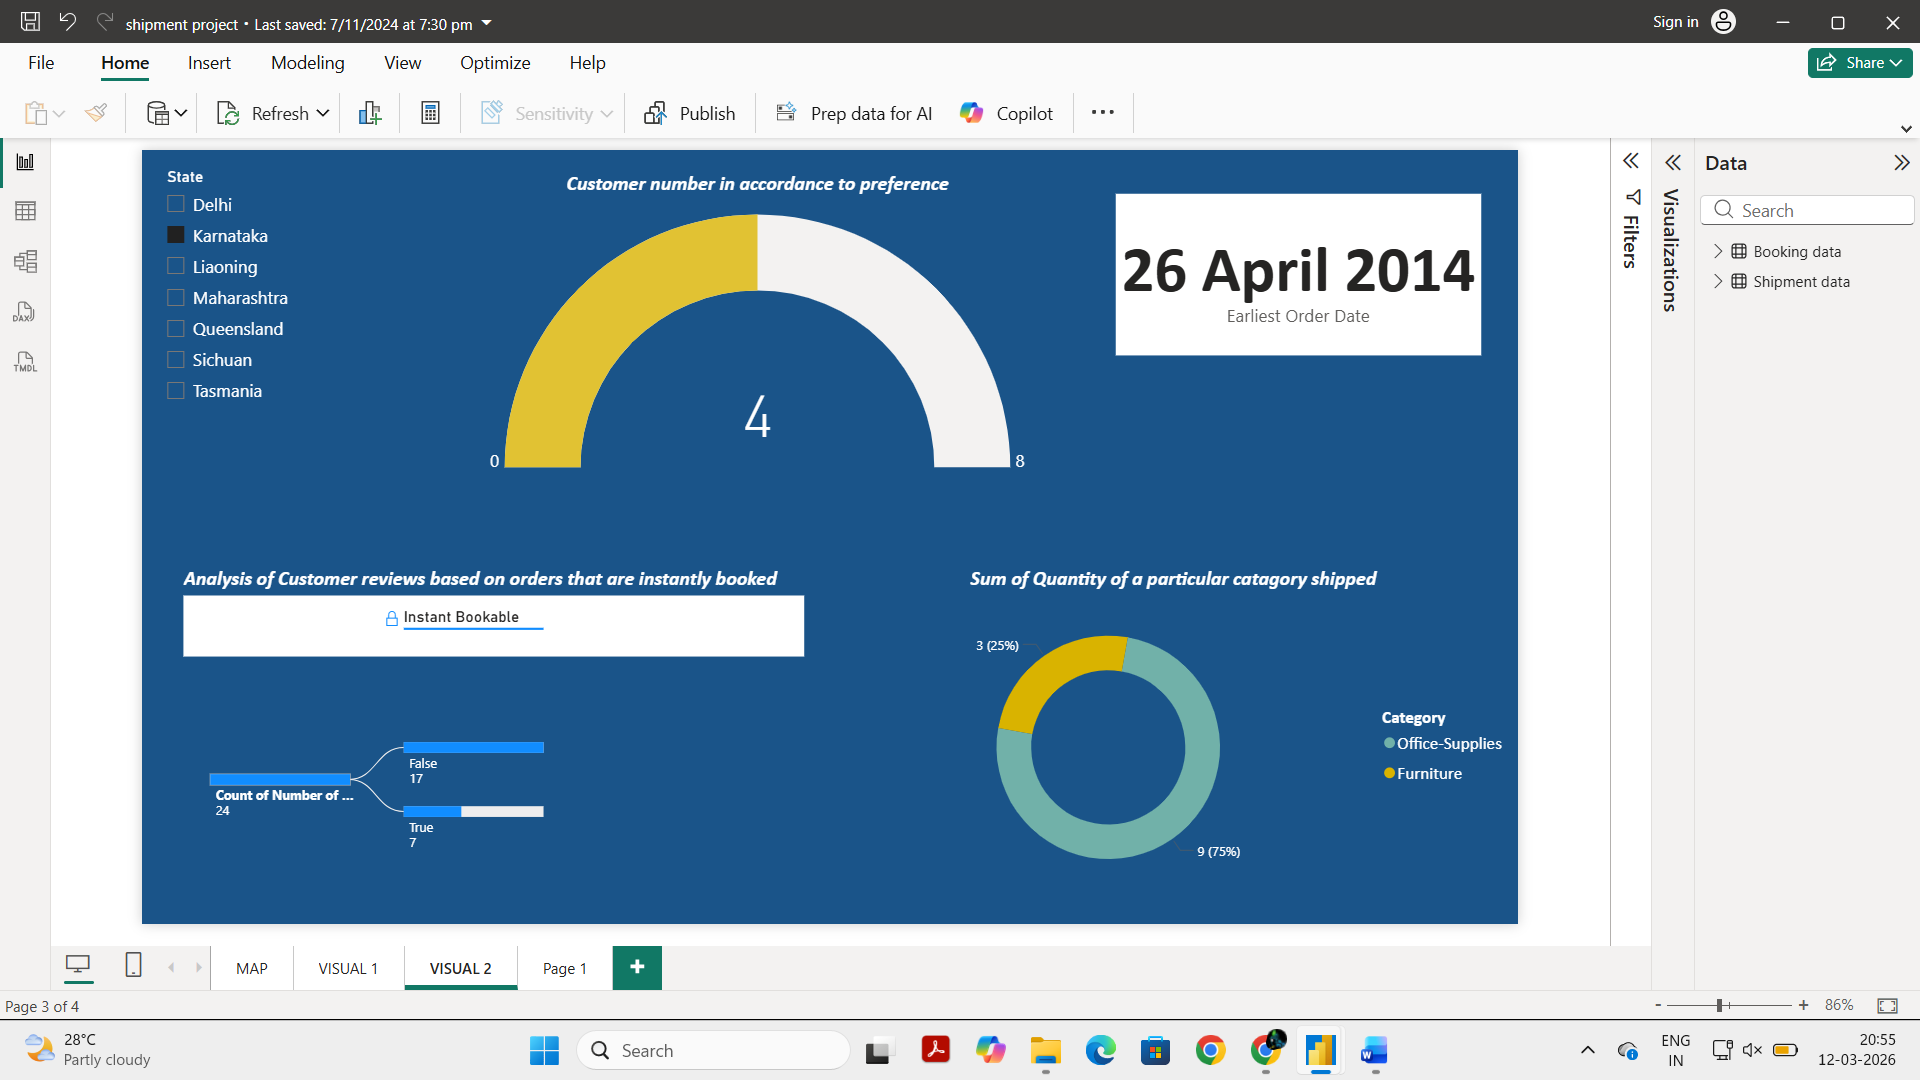

The page's visual inventory and layout, read from the dashboard file:
{"tool":"powerbi","page":{"name":"VISUAL 2","canvas":[1280,720],"ordinal":2},"visuals":[{"type":"gauge","title":"Customer number in accordance to preference","fields":{"Y":["CountNonNull(Shipment data.Customer Name)"]},"box":[313.8,20,517.5,298.8],"z":0},{"type":"slicer","fields":{"Values":["Shipment data.State"]},"box":[10,11.2,152.5,268.8],"z":1000},{"type":"decompositionTreeVisual","title":"Analysis of Customer reviews based on orders that are instantly booked","fields":{"Analyze":["CountNonNull(Booking data.Number of Reviews)"],"ExplainBy":["Booking data.Instant Bookable"]},"box":[33.8,387.5,587.5,282.5],"z":2000},{"type":"card","fields":{"Values":["Min(Shipment data.Order Date)"]},"box":[906.2,41.2,340,150],"z":3000},{"type":"donutChart","title":"Sum of Quantity of a particular catagory shipped","fields":{"Category":["Shipment data.Category"],"Y":["Sum(Shipment data.Quantity)"]},"box":[640,387.5,640,308.8],"z":4000}]}

Visuals, with their boxes on the page's 1280x720 design canvas (x1, y1, x2, y2). These are canvas units, not pixel positions in the 1920x1080 screenshot, which may show the page scaled, cropped or inside an application window:
"Customer number in accordance to preference" gauge: 314:20:831:319
slicer - Shipment data.State: 10:11:162:280
"Analysis of Customer reviews based on orders that are instantly booked" decompositionTreeVisual: 34:388:621:670
card - Min(Shipment data.Order Date): 906:41:1246:191
"Sum of Quantity of a particular catagory shipped" donutChart: 640:388:1280:696
